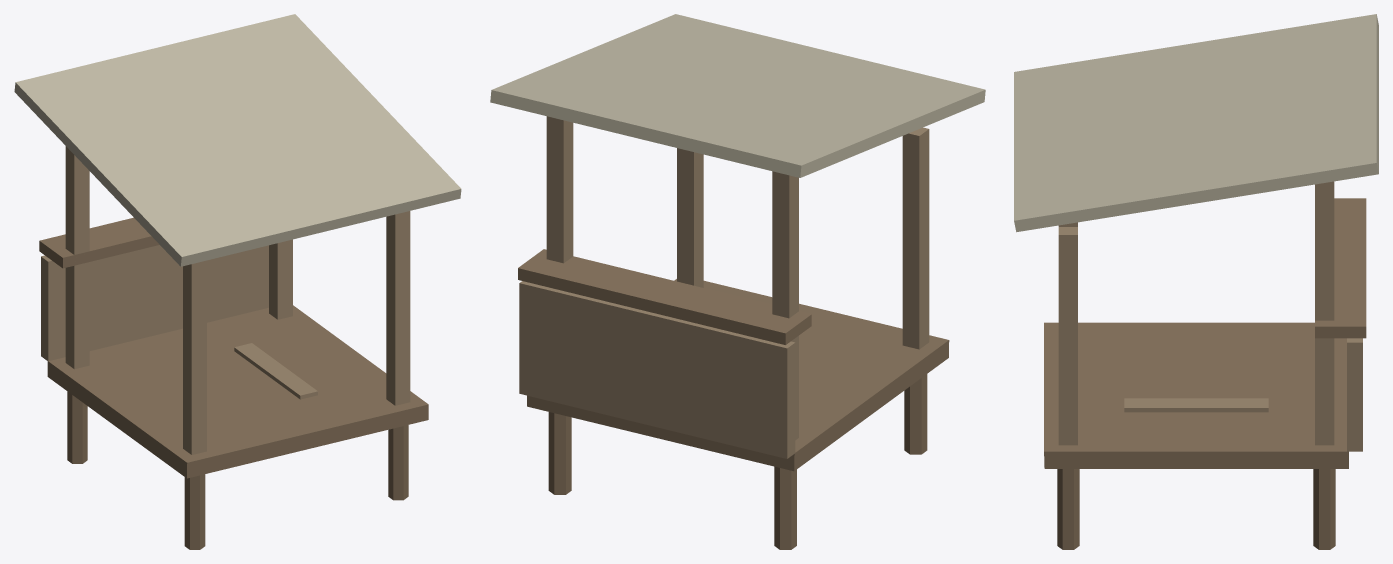
The model's file is river_fishmonger.glb.
3 renders of one model, left to right at view 1: azimuth 30°, elevation 25°; view 2: azimuth 150°, elevation 25°; view 3: azimuth 270°, elevation 25°, orthographic. The views are drawn at different scales.
Visible parts, largest first — view 1: river_fishmonger; view 2: river_fishmonger; view 3: river_fishmonger.
Boxes of the visible parts, x1=… form: river_fishmonger: x1=14, y1=14, x2=461, y2=549; river_fishmonger: x1=490, y1=14, x2=985, y2=549; river_fishmonger: x1=1014, y1=14, x2=1378, y2=549.
Size of the model in its own units: 2.2 by 2.78 by 2.28.
